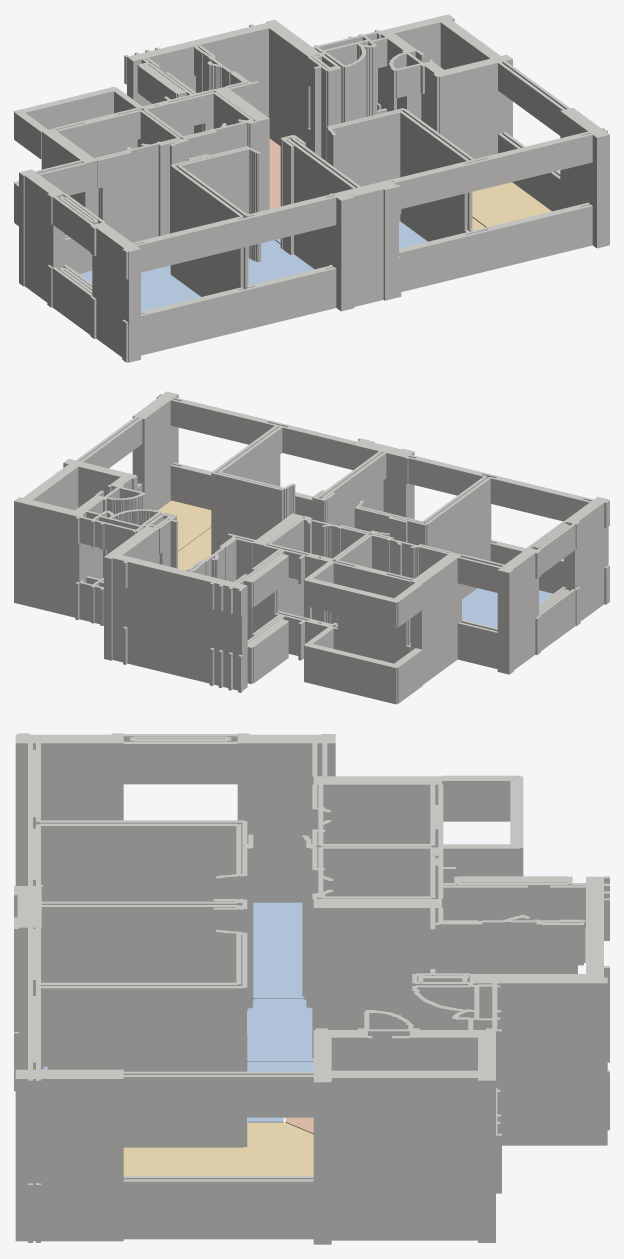
The picture shows the model from 3 angles, top to bottom: view 1: azimuth 30°, elevation 25°; view 2: azimuth 150°, elevation 25°; view 3: azimuth 270°, elevation 25°; orthographic projection. The views are drawn at different scales.
Visible parts, largest first — view 1: walls, room:living:7, room:bedroom:8, room:bedroom:4, room:kitchen:1; view 2: walls, room:living:7, room:bedroom:8, room:living:6; view 3: walls, room:living:6, room:bedroom:8, room:bedroom:4, room:bedroom:5.
Part boxes in pixels (<box>): walls: <box>14,14,609,362</box>; room:living:7: <box>472,182,551,227</box>; room:bedroom:8: <box>79,265,200,311</box>; room:bedroom:4: <box>248,240,314,285</box>; room:kitchen:1: <box>269,138,280,208</box>; walls: <box>14,391,609,704</box>; room:living:7: <box>158,500,211,551</box>; room:bedroom:8: <box>462,588,552,628</box>; room:living:6: <box>178,528,211,570</box>; walls: <box>14,733,609,1244</box>; room:living:6: <box>123,1122,313,1175</box>; room:bedroom:8: <box>253,902,304,1000</box>; room:bedroom:4: <box>247,999,313,1061</box>; room:bedroom:5: <box>43,1061,313,1122</box>.
Bounding box in the file's own units: 12.91 × 2.8 × 9.31.
